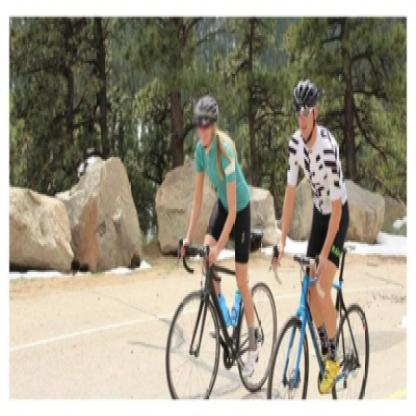Helmet: (288, 81, 322, 145), (195, 97, 219, 151)
